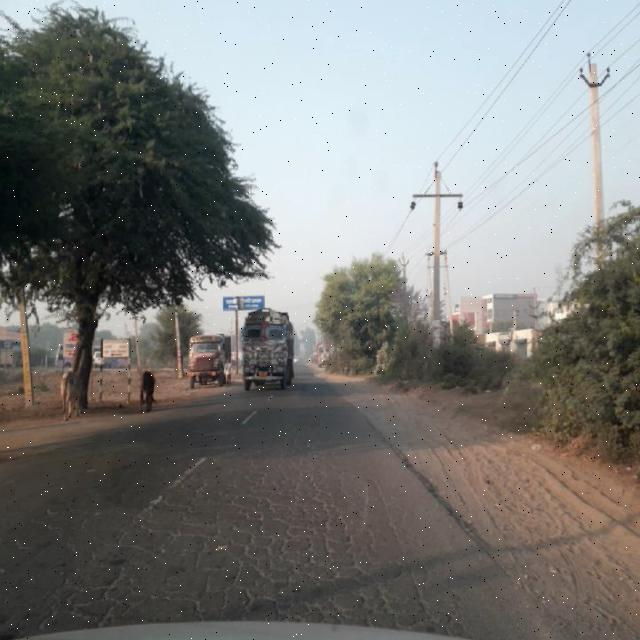D20: (1, 462, 462, 630)
